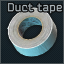Duct tape: (0, 0, 64, 64)
